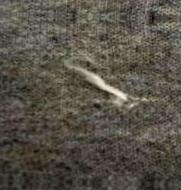snag: (65, 60, 134, 108)
